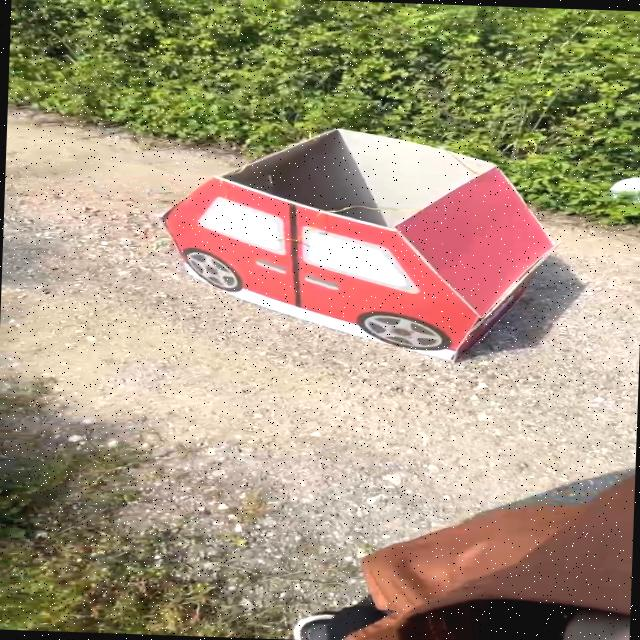red_car: (72, 78, 589, 387)
